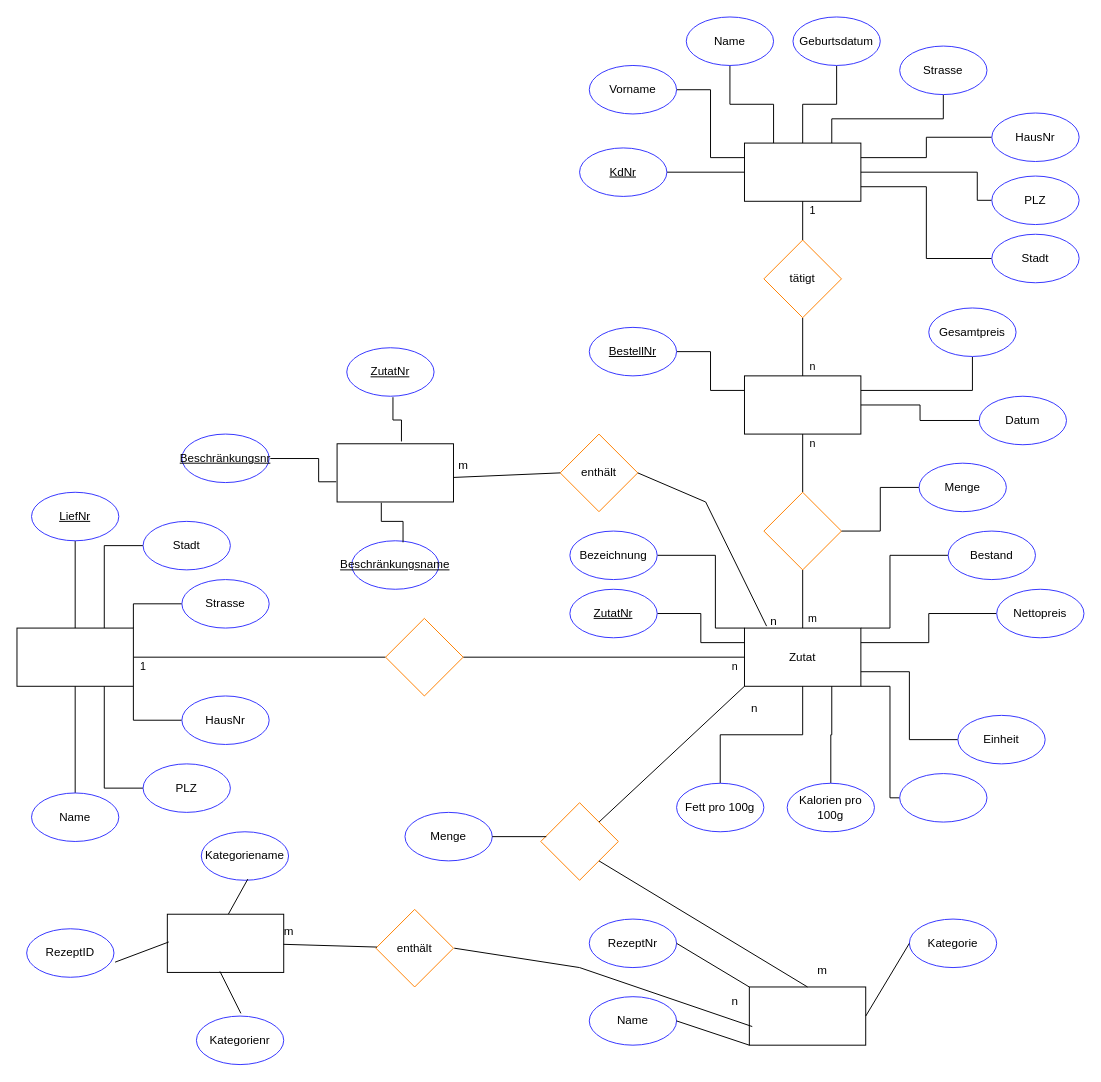
Image size: 1101x1082. Some labels were removed from this diagram. Here are the shapes that lost their labels. From the top down, the box of each, then its label:
(744, 142, 861, 201): Kunde
(744, 375, 861, 434): Bestellung
(336, 443, 453, 502): Beschränkung
(763, 491, 841, 570): enthält (Bestellzutat)
(16, 627, 133, 686): Lieferant
(385, 617, 463, 696): liefert
(899, 773, 987, 822): Kohlenhydrate pro 100g
(540, 802, 618, 880): enthält (Rezeptzutat)
(166, 913, 284, 972): Ehrnährungskategorien
(748, 986, 866, 1045): Rezept
